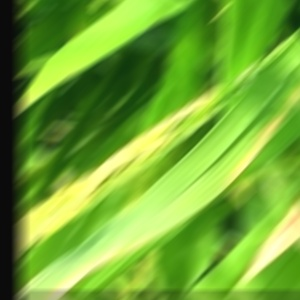Leaf_Blast: (245, 68, 300, 133)
